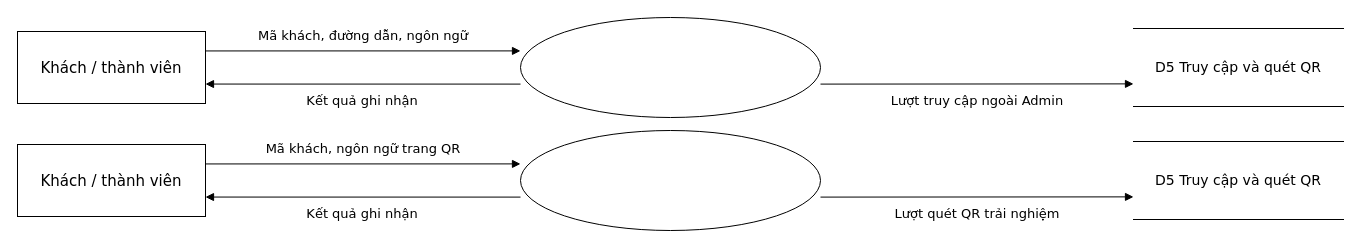
Some shapes in this 1361 by 248 pixel diagram are drawn without their labels. The centre of each missing label's shape, as x and y in pixels:
"6.1 Ghi nhận truy cập" goes at [670,67].
"6.2 Ghi nhận QR trải nghiệm" goes at [670,180].
